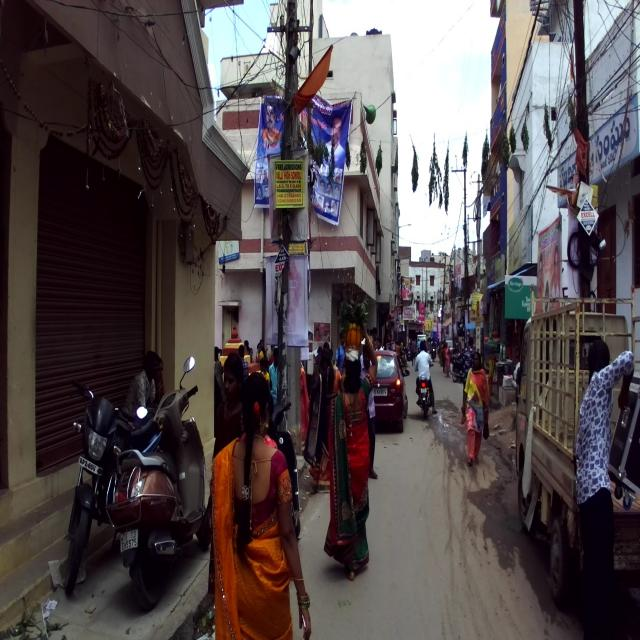Car_Maruti-Suzuki: (365, 350, 410, 434)
motorcycle_Hero: (61, 378, 169, 596), (415, 362, 433, 417)
scooter: (104, 354, 212, 610)
truck: (515, 282, 640, 610)
